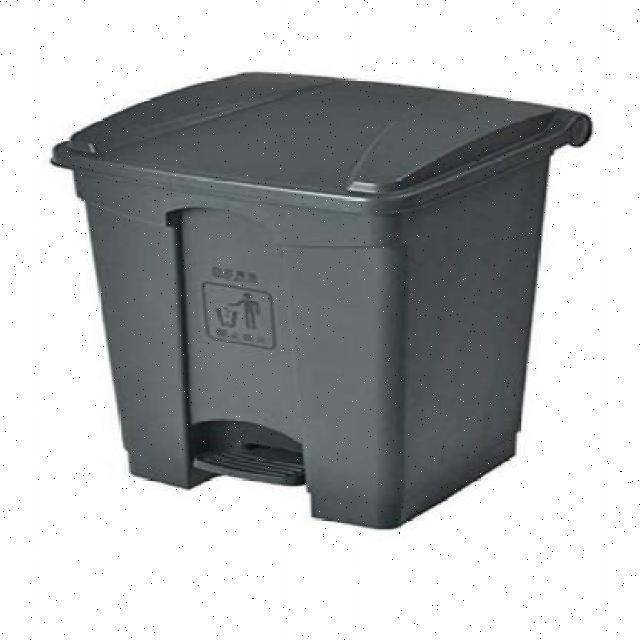garbage container: (27, 60, 610, 546)
